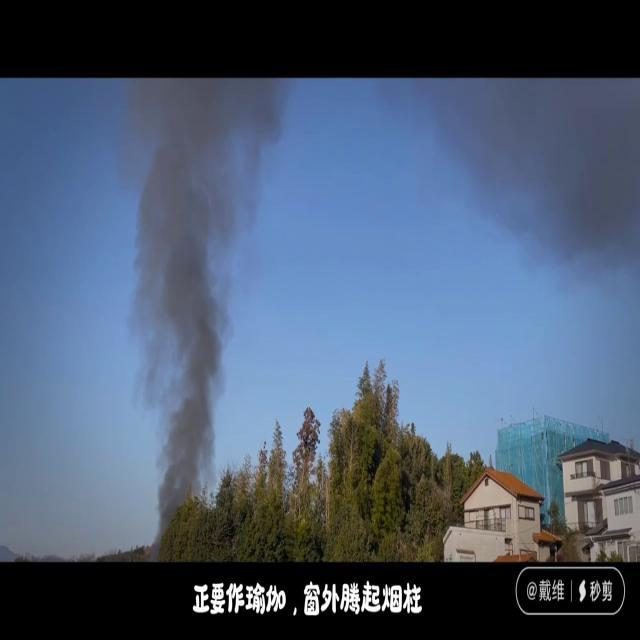Smoke: (120, 79, 278, 520)
